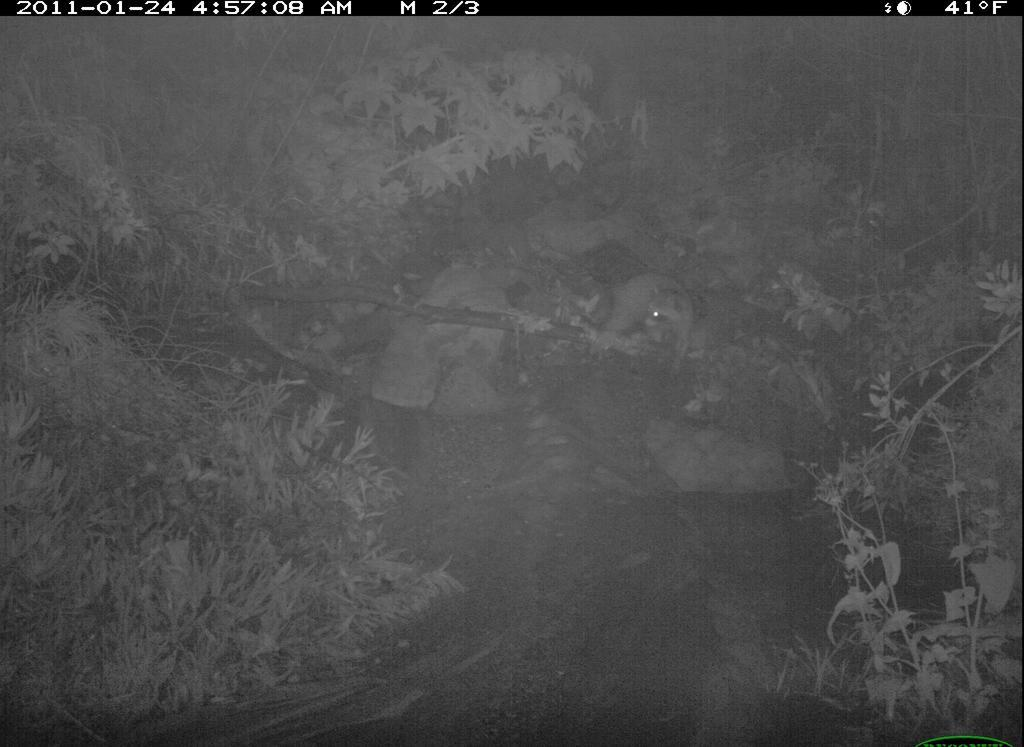raccoon: (580, 274, 704, 375)
